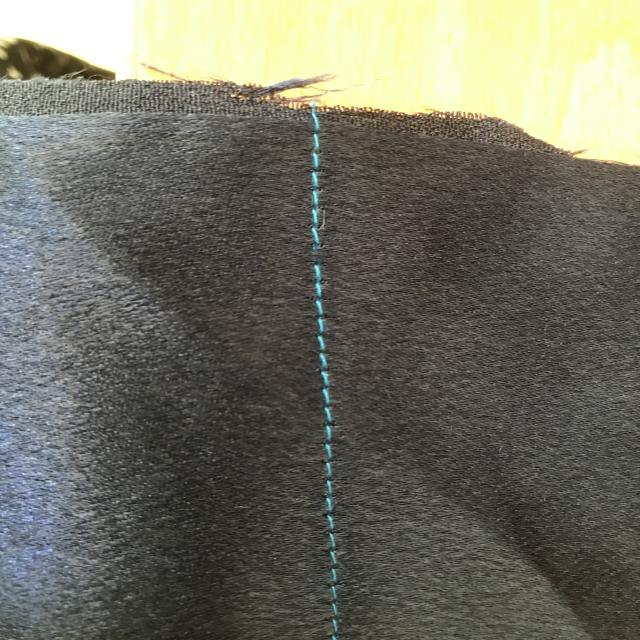broken: (293, 206, 339, 300)
good: (308, 353, 351, 529)
